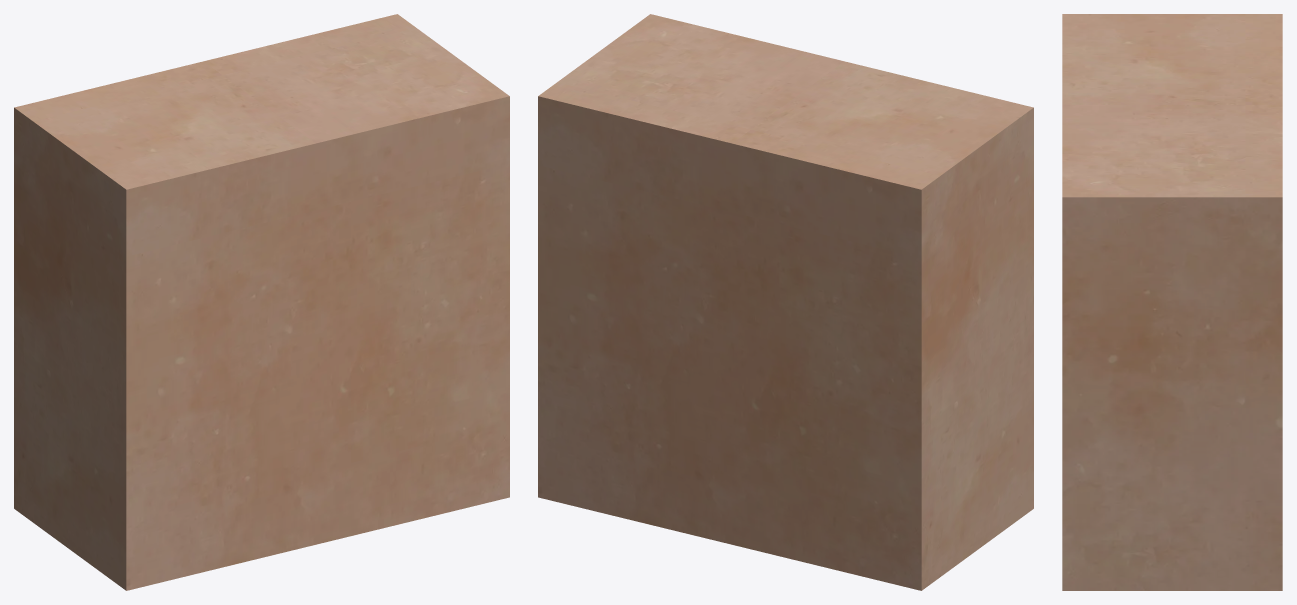
3 renders of one model, left to right at view 1: azimuth 30°, elevation 25°; view 2: azimuth 150°, elevation 25°; view 3: azimuth 270°, elevation 25°, orthographic.
Parts seen in each view (by area): view 1: SM_BB_T4_Wall_Small_LOD0; view 2: SM_BB_T4_Wall_Small_LOD0; view 3: SM_BB_T4_Wall_Small_LOD0.
Part boxes in pixels (<box>): SM_BB_T4_Wall_Small_LOD0: <box>14,14,509,590</box>; SM_BB_T4_Wall_Small_LOD0: <box>538,14,1033,590</box>; SM_BB_T4_Wall_Small_LOD0: <box>1062,14,1282,590</box>.
Bounding box in the file's own units: 0.75 × 0.75 × 0.3805.
Materials: 1 (1 with a texture image).
